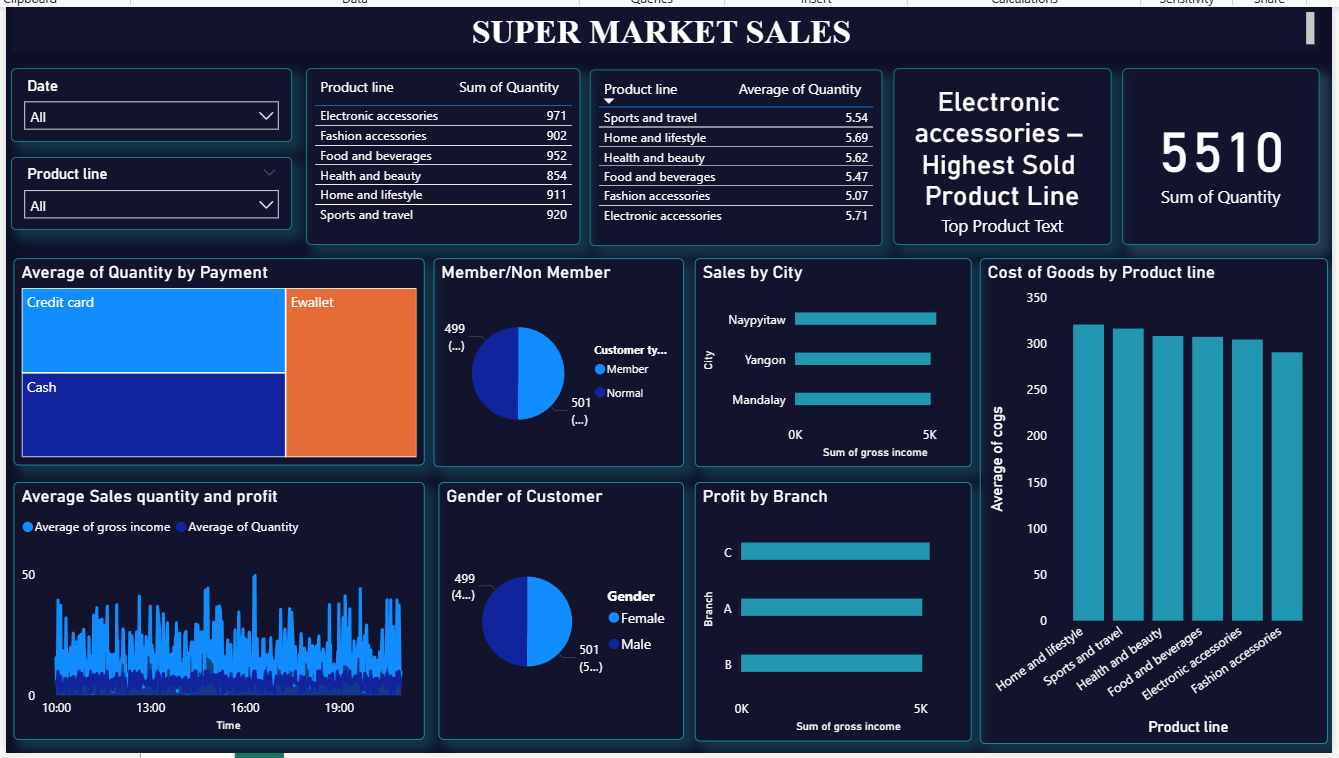

The dashboard page shown, as its layout file describes it:
{"tool":"powerbi","page":{"name":"Page 1","canvas":[1280,720],"ordinal":0},"visuals":[{"type":"textbox","box":[5.7,0,1261.4,44.3],"z":0},{"type":"card","fields":{"Values":["Sum(supermarket_sales.Quantity)"]},"box":[1077.1,58.6,190,170],"z":1000},{"type":"clusteredColumnChart","title":"Cost of Goods by Product line","fields":{"Category":["supermarket_sales - Sheet1.Product line"],"Y":["Avg(supermarket_sales - Sheet1.cogs)"]},"box":[940,242.9,335.7,468.6],"z":2000},{"type":"tableEx","fields":{"Values":["supermarket_sales - Sheet1.Product line","Avg(supermarket_sales - Sheet1.Quantity)"]},"box":[562.9,60,282,170],"z":3000},{"type":"tableEx","fields":{"Values":["supermarket_sales - Sheet1.Product line","Sum(supermarket_sales - Sheet1.Quantity)"]},"box":[290,58.6,265,170],"z":4000},{"type":"slicer","fields":{"Values":["supermarket_sales.Date"]},"box":[4.3,58.6,271.4,71.4],"z":5000},{"type":"pieChart","title":"Gender of Customer","fields":{"Category":["supermarket_sales - Sheet1.Gender"],"Y":["CountNonNull(supermarket_sales - Sheet1.Invoice ID)"]},"box":[417.1,458.6,237.1,248.6],"z":6000},{"type":"pieChart","title":"Member/Non Member","fields":{"Category":["supermarket_sales - Sheet1.Customer type"],"Y":["CountNonNull(supermarket_sales - Sheet1.Invoice ID)"]},"box":[412.9,242.9,241.4,201.4],"z":7000},{"type":"card","fields":{"Values":["supermarket_sales.Top Product Text"]},"box":[857.1,58.6,210,170],"z":8000},{"type":"barChart","title":"Sales by City","fields":{"Y":["Sum(supermarket_sales - Sheet1.gross income)"],"Category":["supermarket_sales - Sheet1.City"]},"box":[664.3,242.9,267.1,201.4],"z":9000},{"type":"lineChart","title":"Average Sales quantity and profit","fields":{"Category":["supermarket_sales - Sheet1.Time"],"Y":["Avg(supermarket_sales - Sheet1.gross income)","Avg(supermarket_sales - Sheet1.Quantity)"]},"box":[7.1,458.6,397.1,248.6],"z":10000},{"type":"clusteredBarChart","title":"Profit by Branch","fields":{"Category":["supermarket_sales - Sheet1.Branch"],"Y":["Sum(supermarket_sales - Sheet1.gross income)"]},"box":[664.3,458.6,267.1,250],"z":11000},{"type":"treemap","fields":{"Values":["Avg(supermarket_sales - Sheet1.Quantity)"],"Group":["supermarket_sales - Sheet1.Payment"]},"box":[7.1,242.9,397.1,200],"z":12000},{"type":"slicer","fields":{"Values":["supermarket_sales.Product line"]},"box":[4.3,144.3,271.4,70],"z":13000}]}

Visuals, with their boxes on the page's 1280x720 design canvas (x1, y1, x2, y2). These are canvas units, not pixel positions in the 1339x758 screenshot, which may show the page scaled, cropped or inside an application window:
textbox: (6,0,1267,44)
card - Sum(supermarket_sales.Quantity): (1077,59,1267,229)
"Cost of Goods by Product line" clusteredColumnChart: (940,243,1276,712)
tableEx - supermarket_sales - Sheet1.Product line x Avg(supermarket_sales - Sheet1.Quantity): (563,60,845,230)
tableEx - supermarket_sales - Sheet1.Product line x Sum(supermarket_sales - Sheet1.Quantity): (290,59,555,229)
slicer - supermarket_sales.Date: (4,59,276,130)
"Gender of Customer" pieChart: (417,459,654,707)
"Member/Non Member" pieChart: (413,243,654,444)
card - supermarket_sales.Top Product Text: (857,59,1067,229)
"Sales by City" barChart: (664,243,931,444)
"Average Sales quantity and profit" lineChart: (7,459,404,707)
"Profit by Branch" clusteredBarChart: (664,459,931,709)
treemap - Avg(supermarket_sales - Sheet1.Quantity) x supermarket_sales - Sheet1.Payment: (7,243,404,443)
slicer - supermarket_sales.Product line: (4,144,276,214)
